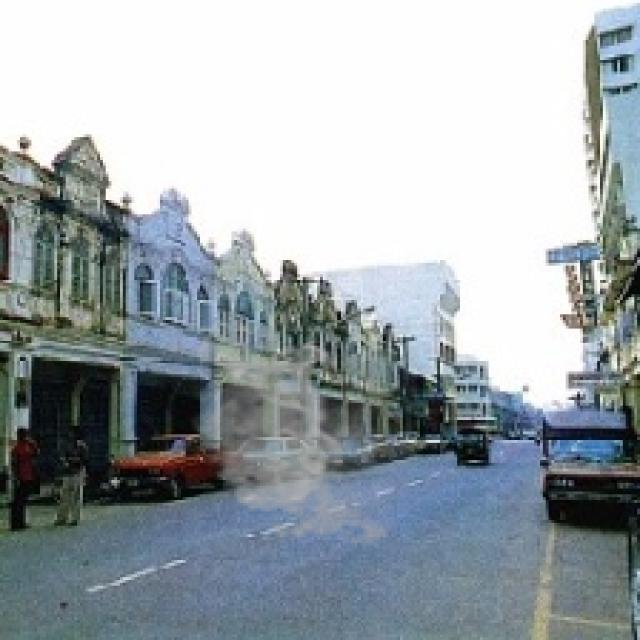smoke: (189, 337, 417, 552)
